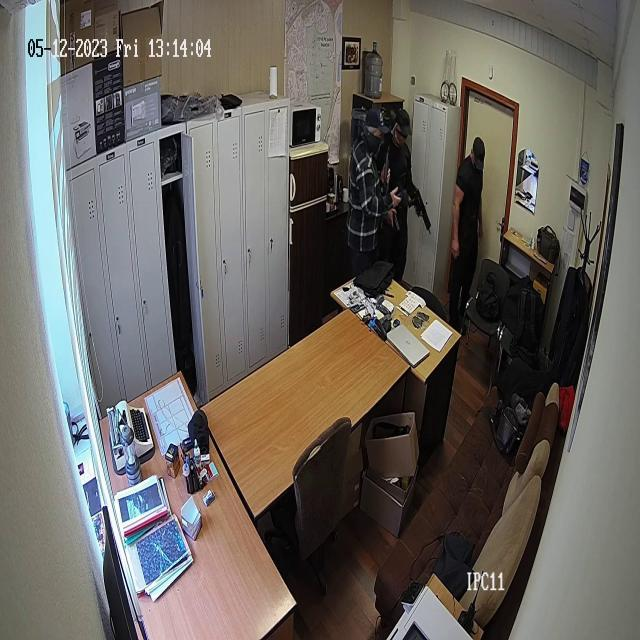pistol: (409, 182, 432, 237), (393, 212, 401, 235)
